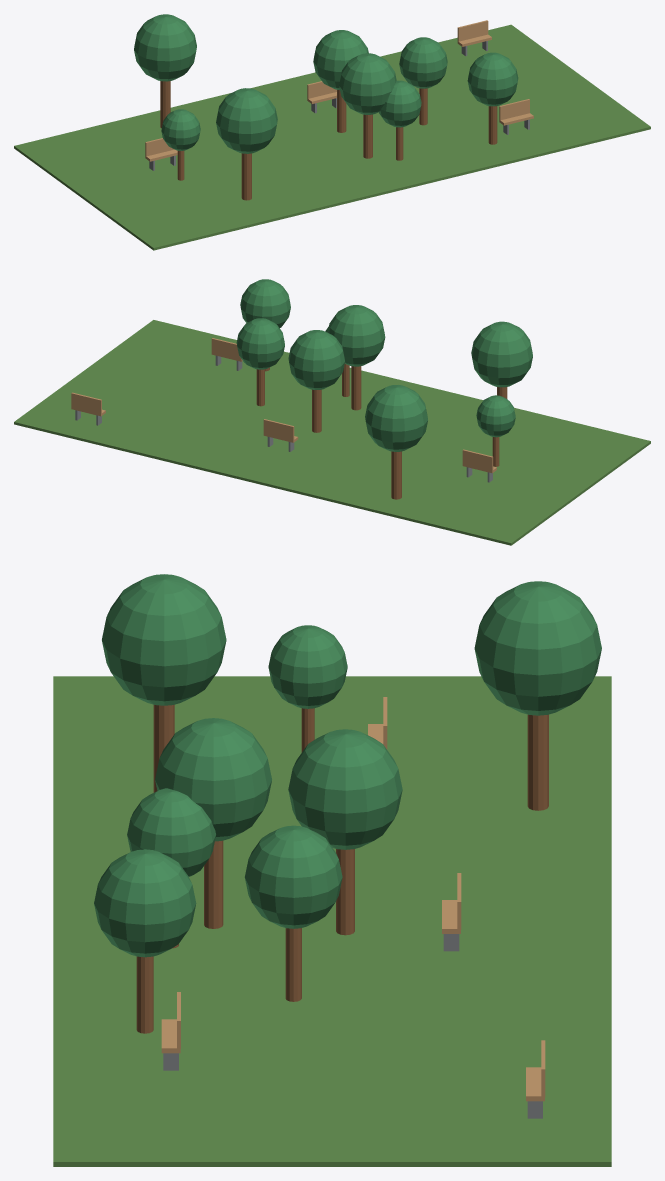
File: Park_002.glb
The picture shows the model from 3 angles, top to bottom: view 1: azimuth 30°, elevation 25°; view 2: azimuth 150°, elevation 25°; view 3: azimuth 270°, elevation 25°; orthographic projection. The views are drawn at different scales.
Parts seen in each view (by area): view 1: Park_002; view 2: Park_002; view 3: Park_002.
Boxes of the visible parts, left/top/right/bottom form: Park_002: left=14, top=14, right=650, bottom=250; Park_002: left=14, top=279, right=650, bottom=545; Park_002: left=53, top=574, right=611, bottom=1166.
Bounding box in the file's own units: 33.44 × 7.21 × 16.26.
